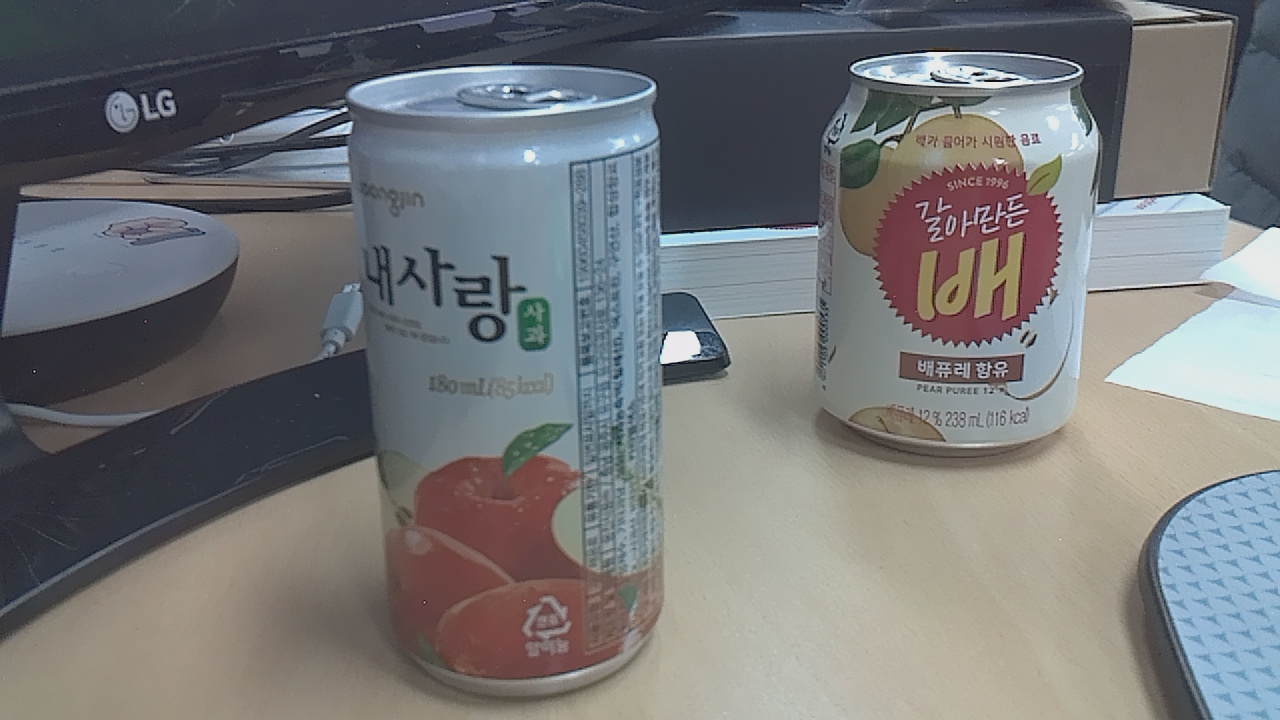IdH (pear juice): (796, 28, 1103, 472)
mylove apple: (324, 57, 695, 712)
